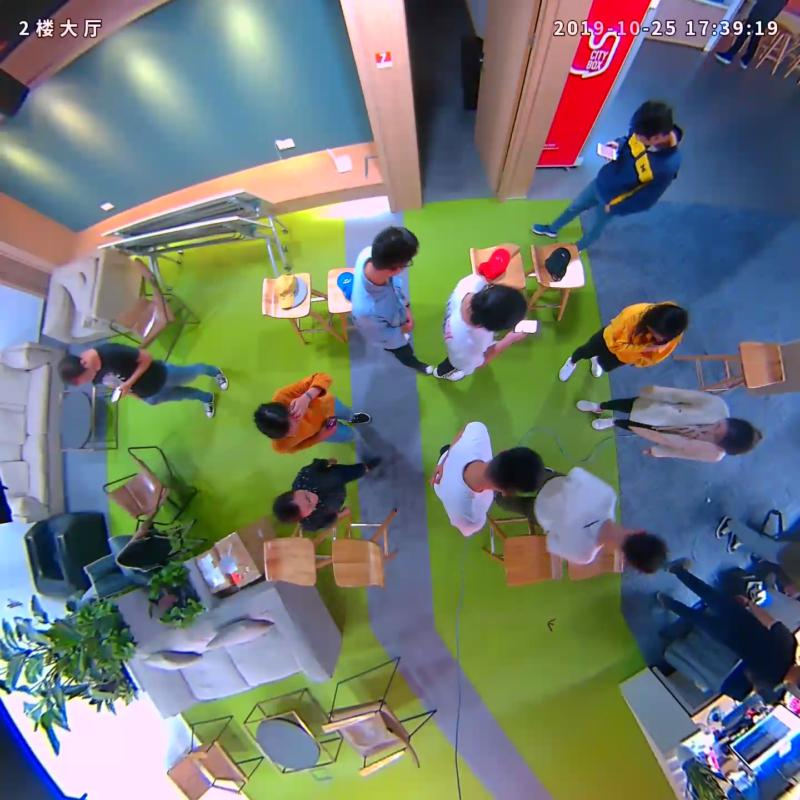head: (483, 445, 545, 497), (470, 284, 527, 333), (617, 527, 669, 576), (372, 226, 419, 277), (707, 416, 759, 456), (631, 99, 674, 147), (273, 486, 320, 525), (253, 400, 297, 441), (642, 303, 687, 343), (57, 354, 95, 387)
